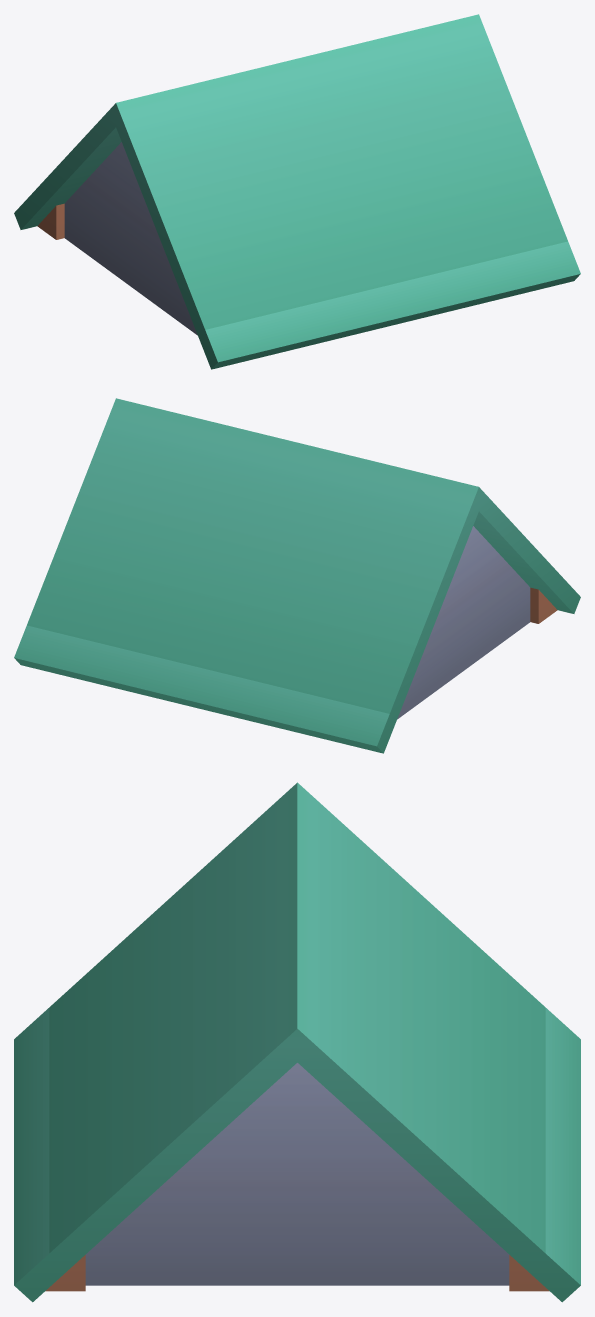
The model's file is kenney-fantasy-town-roof-gable.glb.
3 views of the same model, one above another, from view 1: azimuth 30°, elevation 25°; view 2: azimuth 150°, elevation 25°; view 3: azimuth 270°, elevation 25° (orthographic). The views are drawn at different scales.
Visible parts, largest first — view 1: roof-gable; view 2: roof-gable; view 3: roof-gable.
Boxes of the visible parts, x1=… form: roof-gable: x1=14, y1=14, x2=580, y2=369; roof-gable: x1=14, y1=398, x2=580, y2=753; roof-gable: x1=14, y1=782, x2=580, y2=1302.
Bounding box in the file's own units: 1.1 × 0.5708 × 1.07.
Materials: 1 (1 with a texture image).
